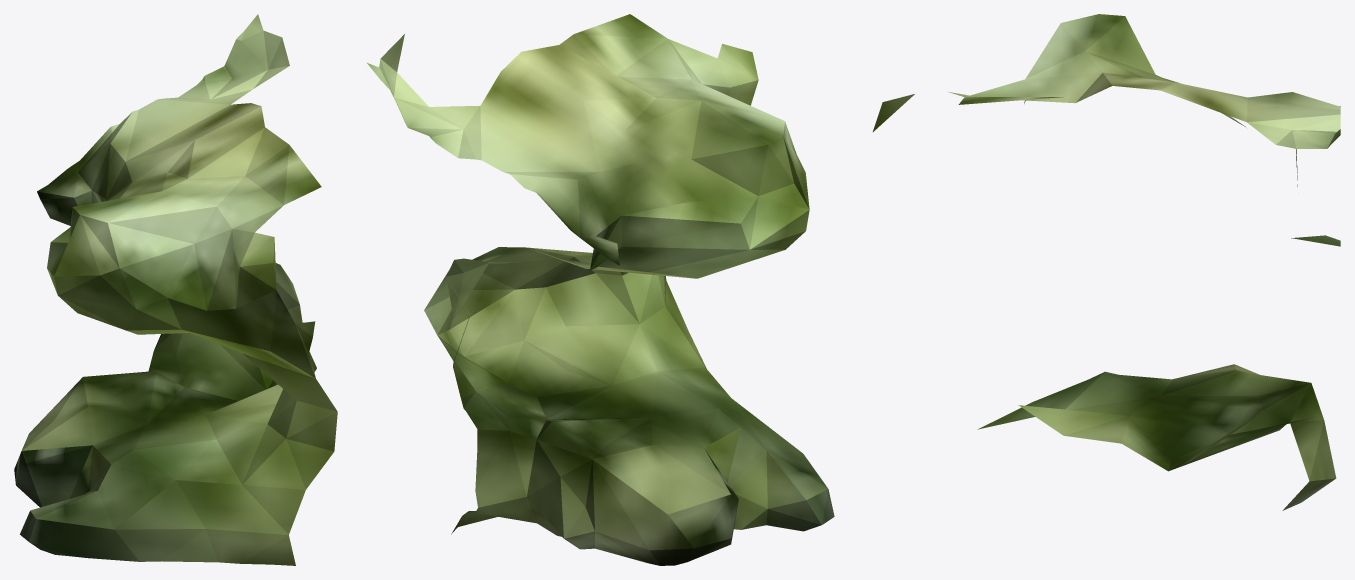
3 views of the same model, side by side, from view 1: azimuth 30°, elevation 25°; view 2: azimuth 150°, elevation 25°; view 3: azimuth 270°, elevation 25° (orthographic). The views are drawn at different scales.
Size of the model in its own units: 0.2662 by 0.3146 by 0.2608.
1 material, 1 textured.
